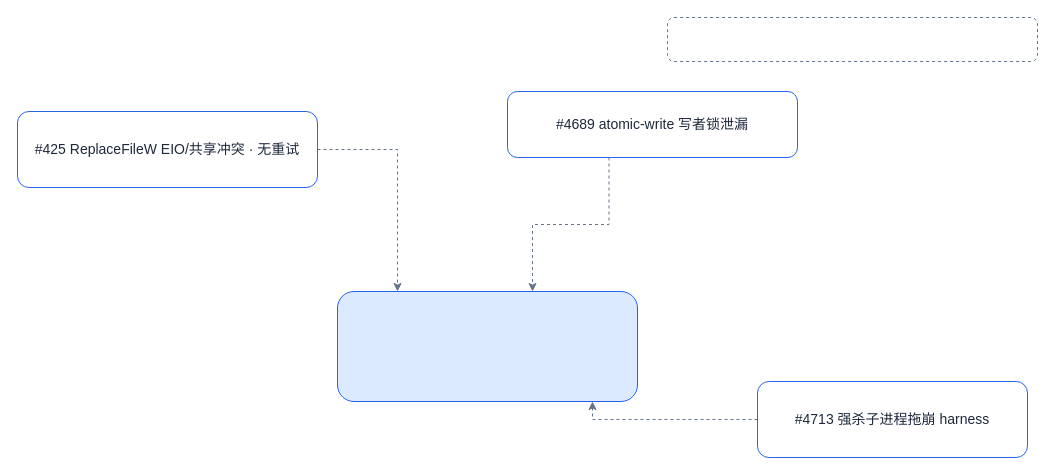
This 1055x475 diagram has some shape labels left out. The box of each missing label's shape, as (x1, y1, x2, y2) in pixels:
issues 公开可查 · 修复随 rc 密集合入: (666, 16, 1038, 62)
Windows 平台链打磨中: (336, 290, 638, 402)
